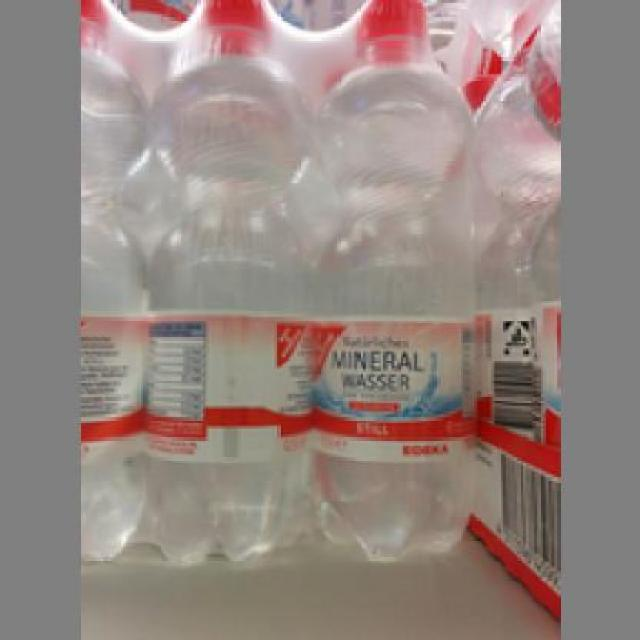Water: (148, 0, 314, 560), (308, 0, 468, 566), (78, 0, 148, 563)
